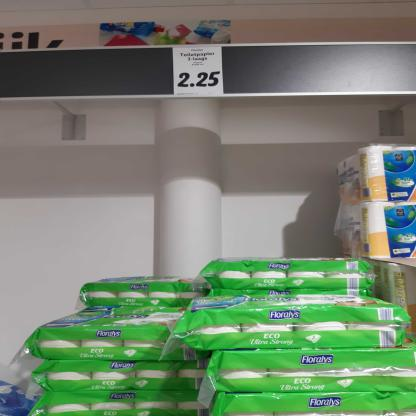prtg: (174, 48, 225, 96)
